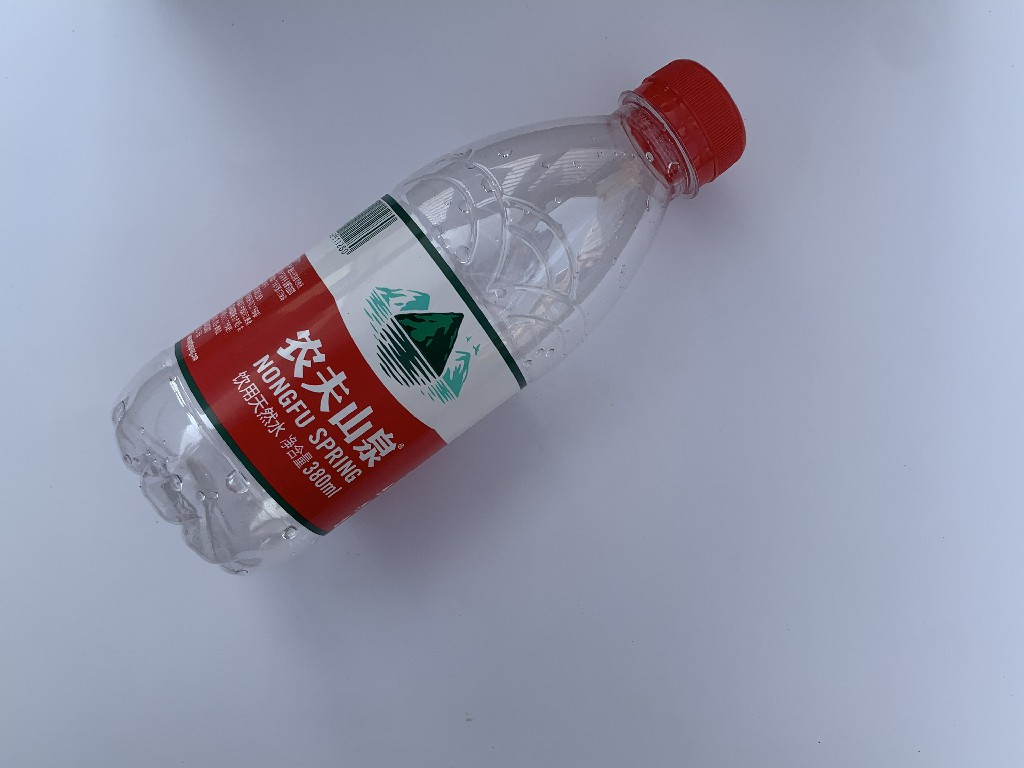bottle: (103, 57, 750, 581)
